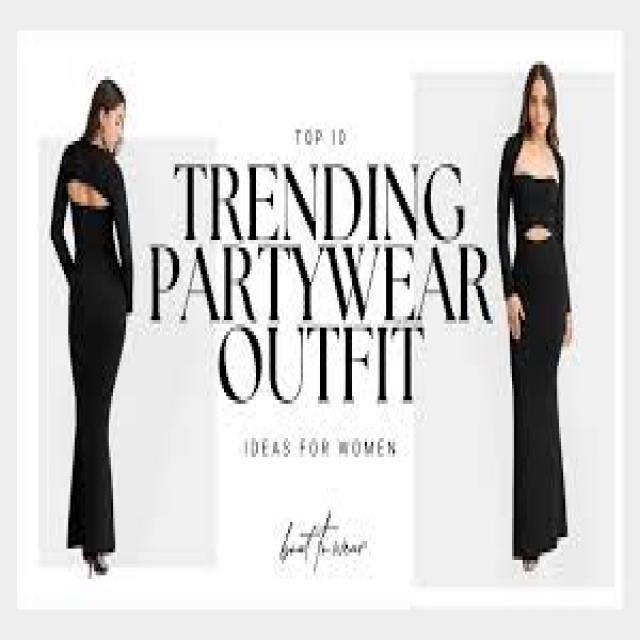dress: (52, 138, 132, 552), (498, 134, 569, 559)
